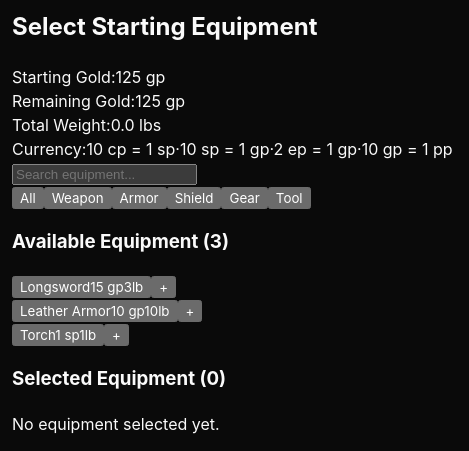
Scenario: EquipmentSelectionStep › search filter › typing "leather" shows only Leather Armor
Expected: the text "Longsword" is shown, [20, 279, 90, 295]
Type "leather" into the field with placeholder "Search equipment..." at [104, 174], box [12, 164, 197, 185]
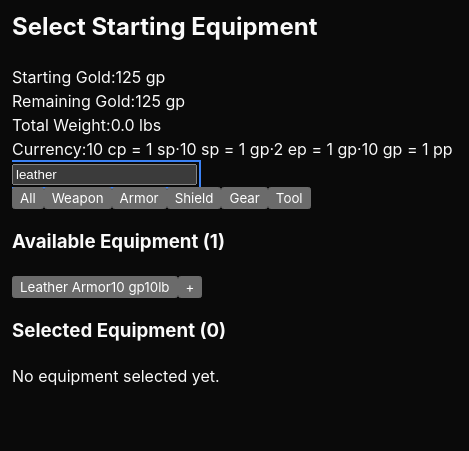
Expected: the text "Leather Armor" is shown, [20, 279, 111, 295]
Expected: the button "Longsword" is gone
